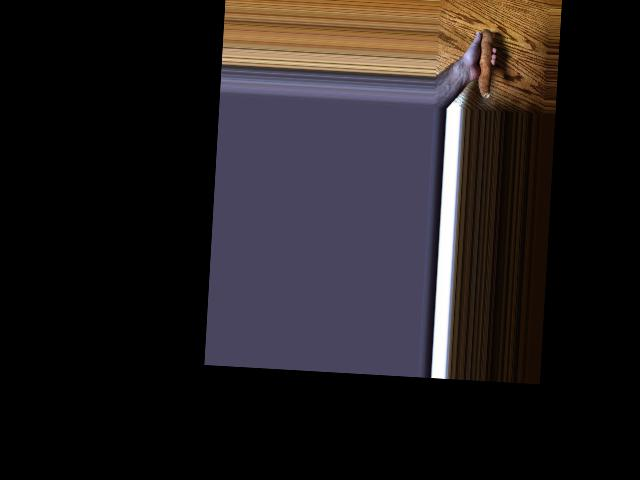sweet_potato: (469, 27, 494, 99)
